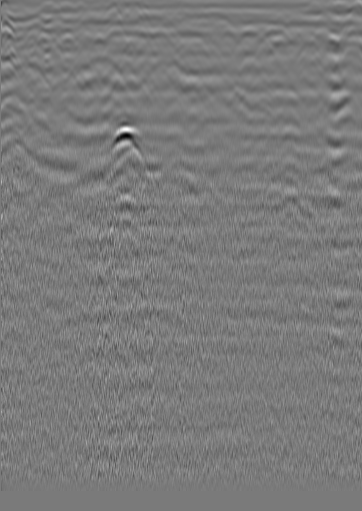가스: (103, 120, 148, 164)
상수: (27, 13, 47, 33)
오수: (306, 12, 326, 32)
우수: (172, 16, 192, 36)
